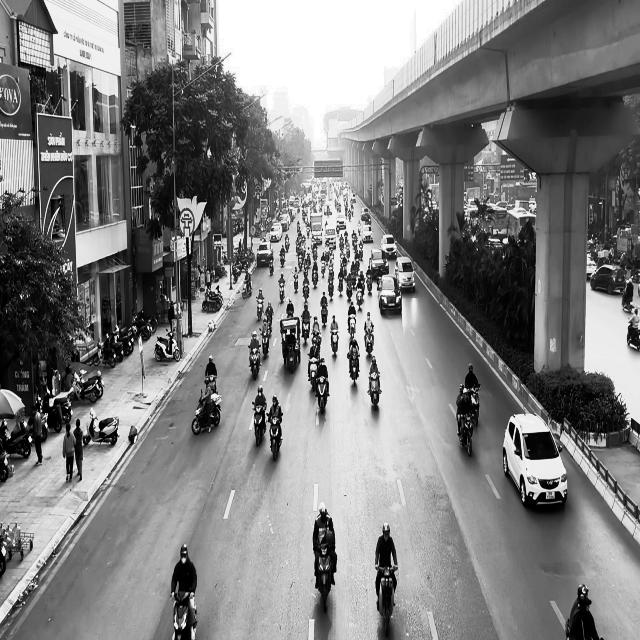car: (502, 412, 567, 508), (377, 274, 402, 314)
motorbike: (375, 564, 398, 636), (82, 406, 119, 446), (314, 542, 333, 612), (191, 390, 221, 434), (170, 591, 197, 639), (154, 328, 180, 362), (456, 410, 474, 456), (267, 414, 282, 461), (251, 401, 266, 446), (368, 370, 382, 409), (315, 375, 329, 413), (347, 350, 360, 386), (248, 343, 260, 380), (307, 354, 319, 391), (364, 327, 374, 355), (330, 328, 339, 356), (278, 279, 286, 304), (256, 297, 264, 321)
